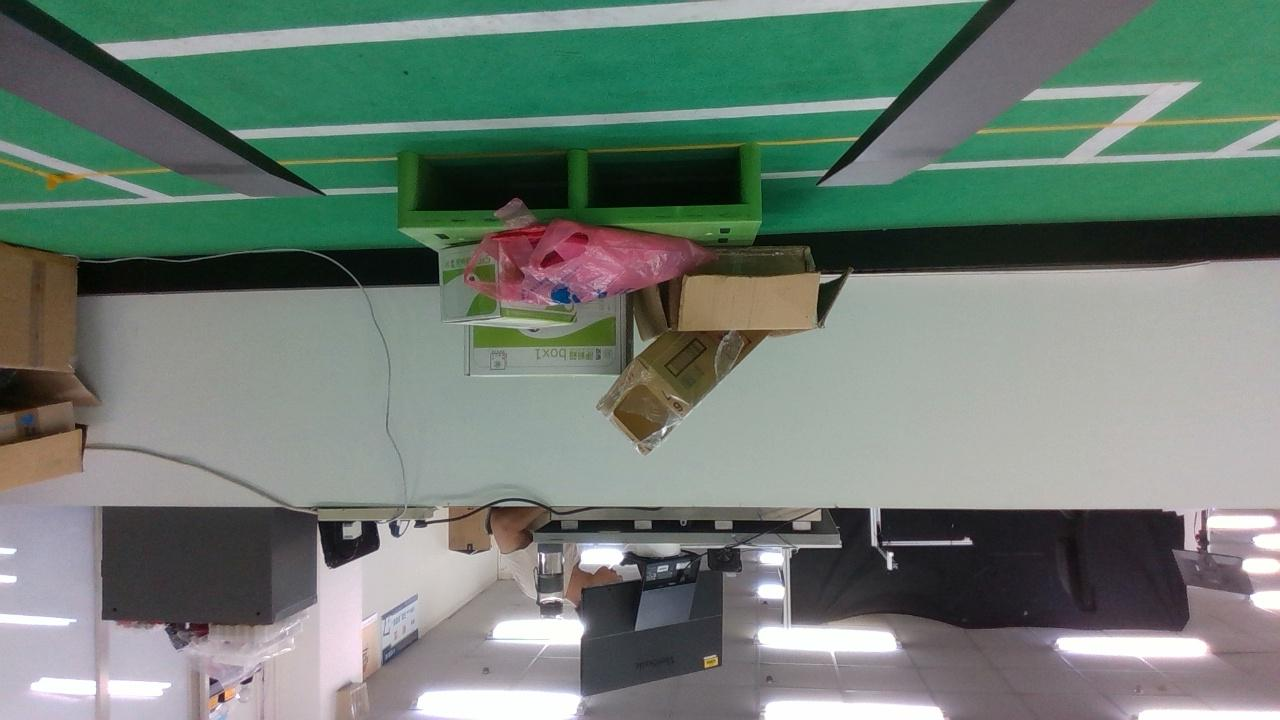Pallet: (397, 145, 762, 228)
